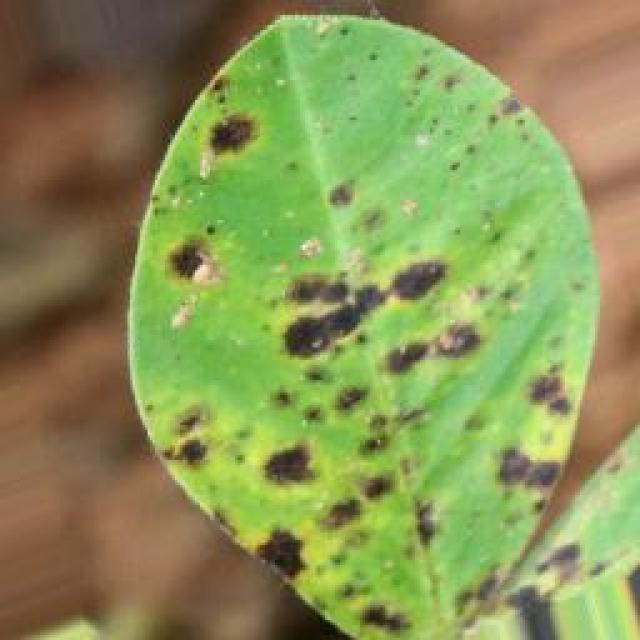Yellowish: (35, 0, 584, 599)
